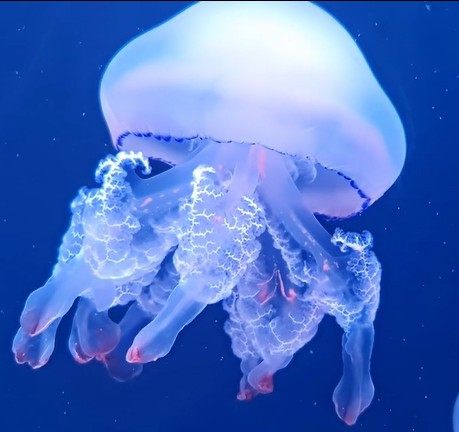jellyfish: (16, 18, 390, 413)
